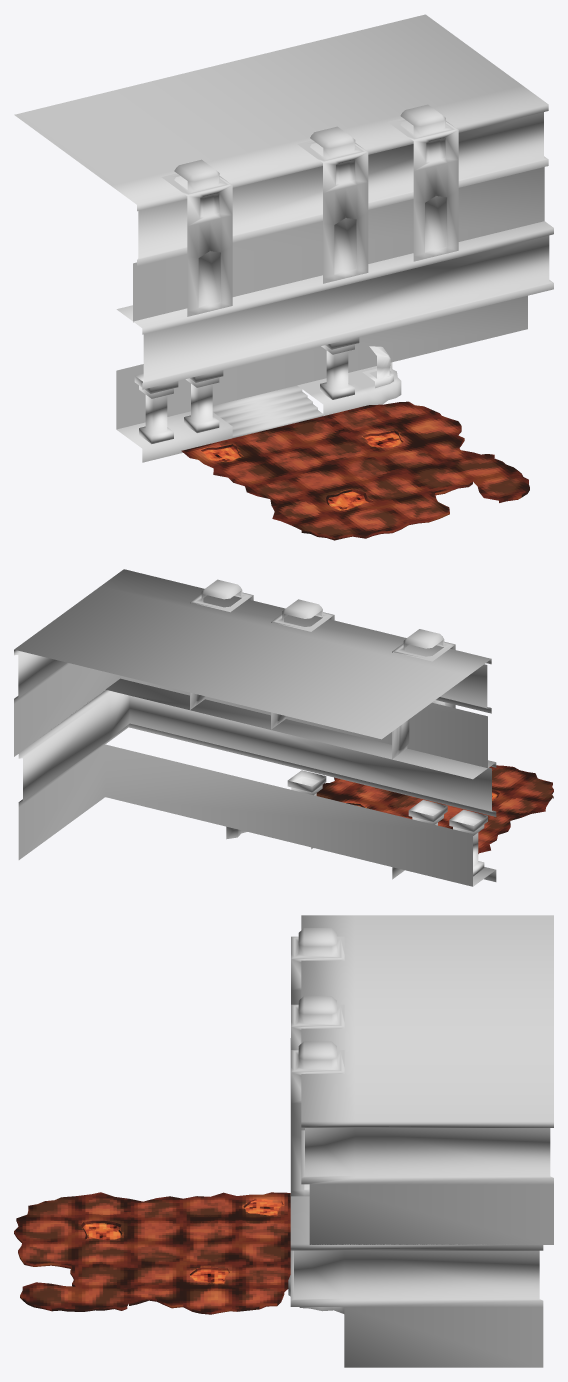
Rendered from hell_floor_level_1.fbx.
3 renders of one model, top to bottom at view 1: azimuth 30°, elevation 25°; view 2: azimuth 150°, elevation 25°; view 3: azimuth 270°, elevation 25°, orthographic. The views are drawn at different scales.
Visible parts, largest first — view 1: building, hell_floor, building_pillars; view 2: building, hell_floor, building_pillars; view 3: building, hell_floor.
Part boxes in pixels (box(x1,y1,x2,y2)): building: box(14, 14, 553, 462); hell_floor: box(181, 401, 529, 540); building_pillars: box(134, 337, 393, 443); building: box(14, 569, 496, 886); hell_floor: box(316, 765, 553, 853); building_pillars: box(287, 770, 487, 876); building: box(288, 915, 553, 1367); hell_floor: box(14, 1192, 290, 1314).
Size of what is drawn, in the model's own units: 1820 by 1143 by 2015.
